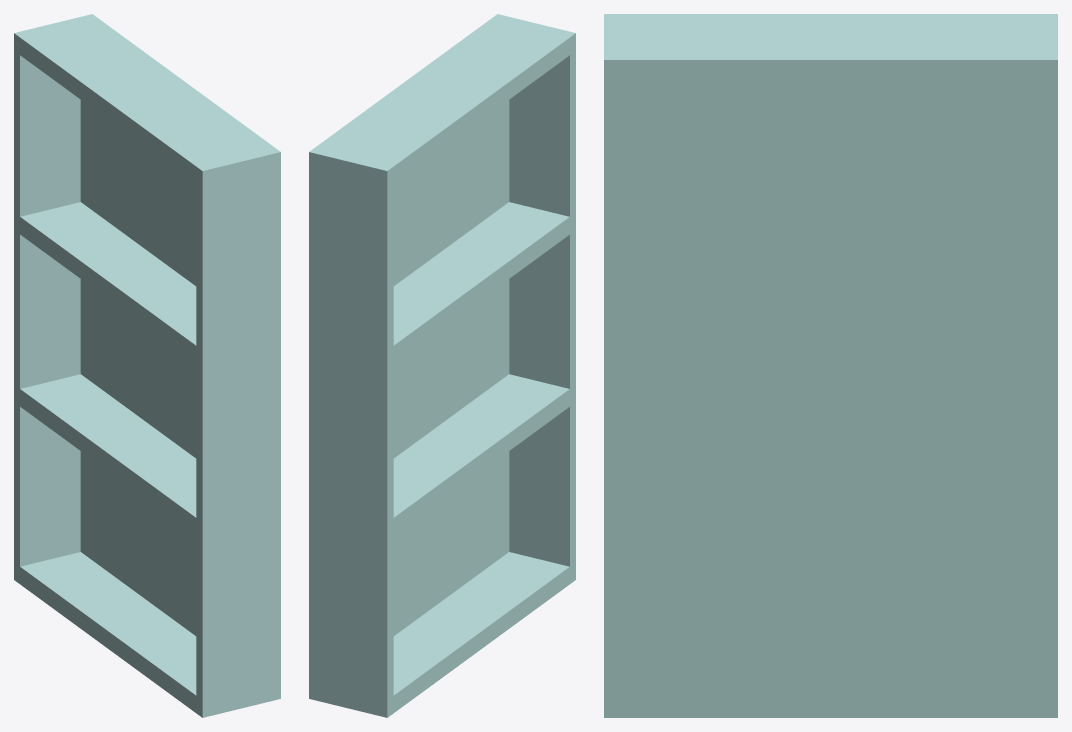
The model's file is bathroom_shelf (1).fbx.
3 renders of one model, left to right at view 1: azimuth 30°, elevation 25°; view 2: azimuth 150°, elevation 25°; view 3: azimuth 270°, elevation 25°, orthographic. The views are drawn at different scales.
Visible parts, largest first — view 1: Cube.015; view 2: Cube.015; view 3: Cube.015.
Part boxes in pixels (bbox=[...]): Cube.015: bbox=[14, 14, 280, 717]; Cube.015: bbox=[309, 14, 575, 717]; Cube.015: bbox=[604, 14, 1057, 717].
Size of the model in its own units: 12 by 80 by 50.
Materials: 1 (1 with a texture image).
